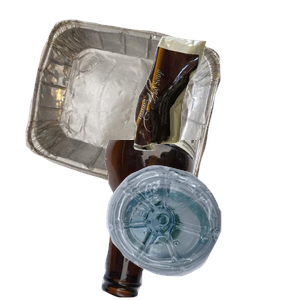glass: (99, 140, 300, 300)
metal: (23, 17, 236, 197)
plastic: (104, 163, 300, 300)
trash: (131, 34, 300, 177)
